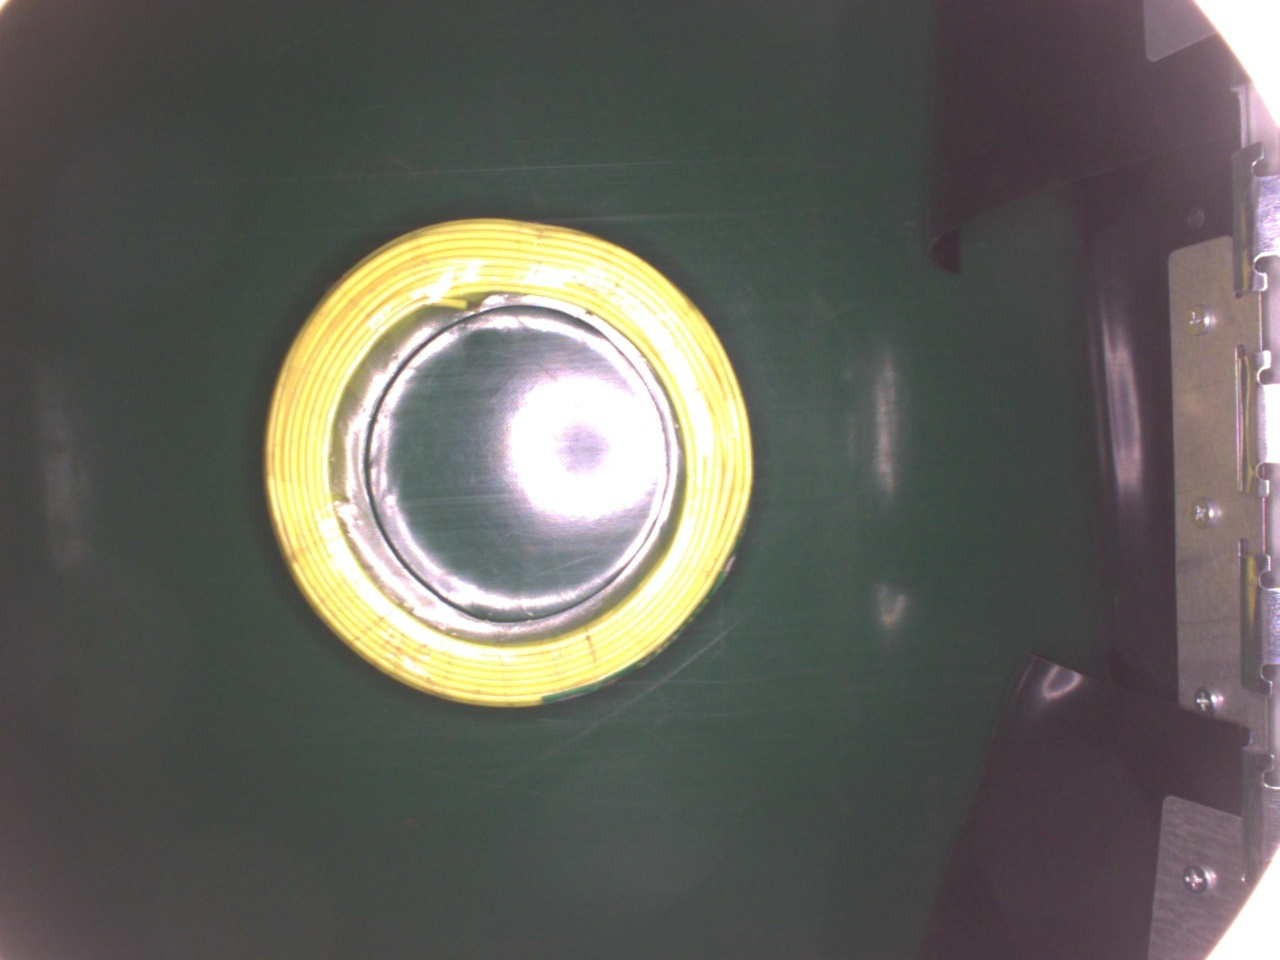yellow: (266, 217, 759, 711)
